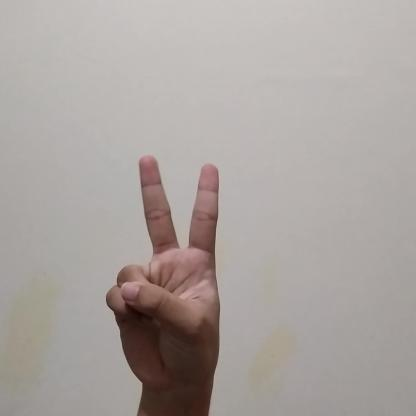V: (99, 153, 224, 406)
